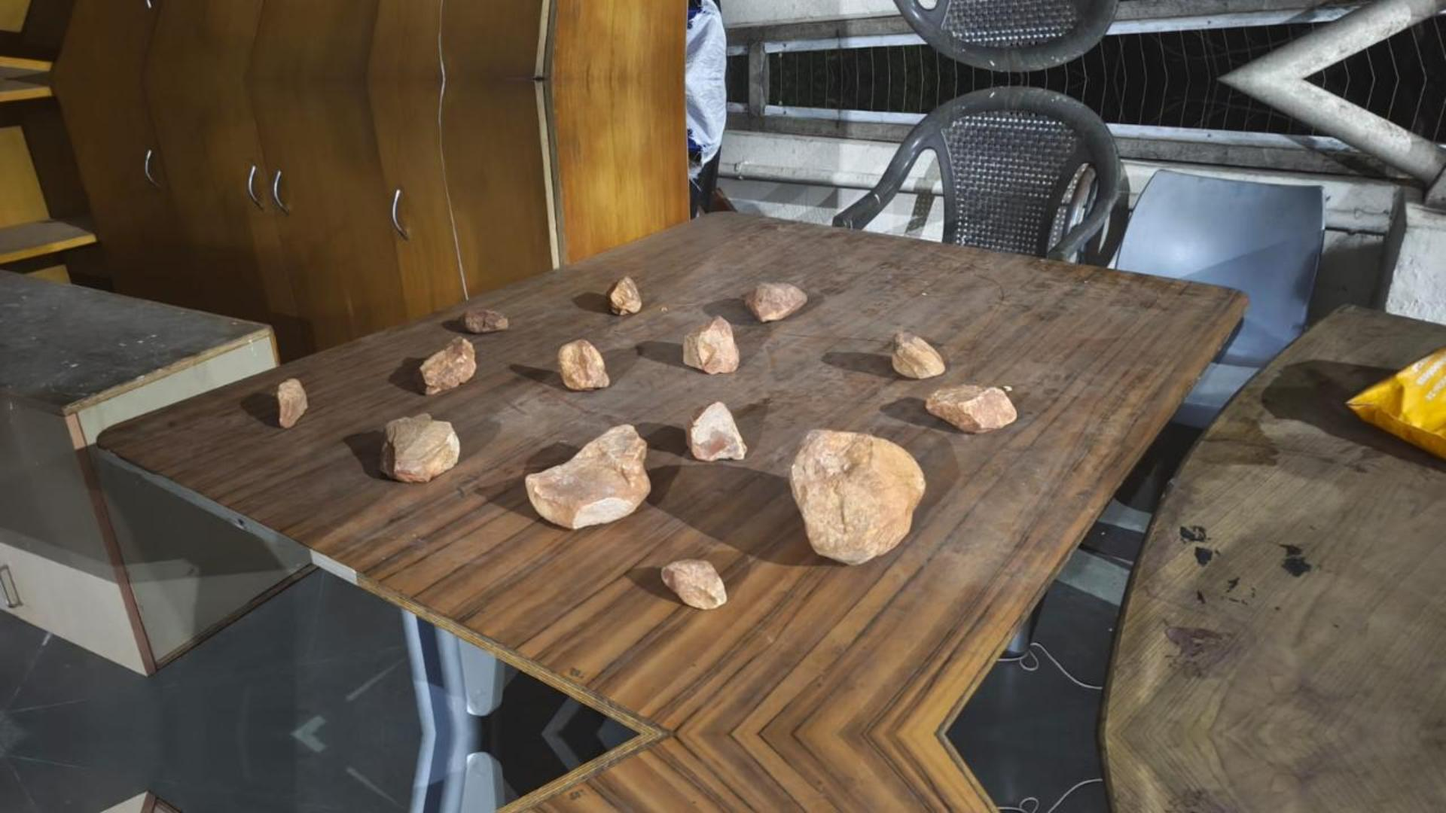rock: (790, 430, 924, 563), (525, 425, 650, 528), (380, 413, 460, 481), (925, 385, 1017, 432), (686, 402, 747, 461), (419, 336, 476, 395), (682, 316, 739, 374), (661, 559, 726, 609), (558, 339, 609, 390), (890, 331, 944, 378), (744, 283, 807, 321), (277, 378, 307, 428), (607, 276, 641, 314), (462, 308, 508, 333)
